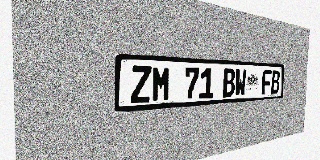1: (199, 68, 214, 99)
7: (183, 67, 199, 100)
B: (222, 68, 235, 97), (271, 70, 280, 94)
F: (261, 70, 271, 95)
M: (152, 66, 171, 102)
W: (235, 69, 246, 96)
Z: (130, 65, 151, 104)
